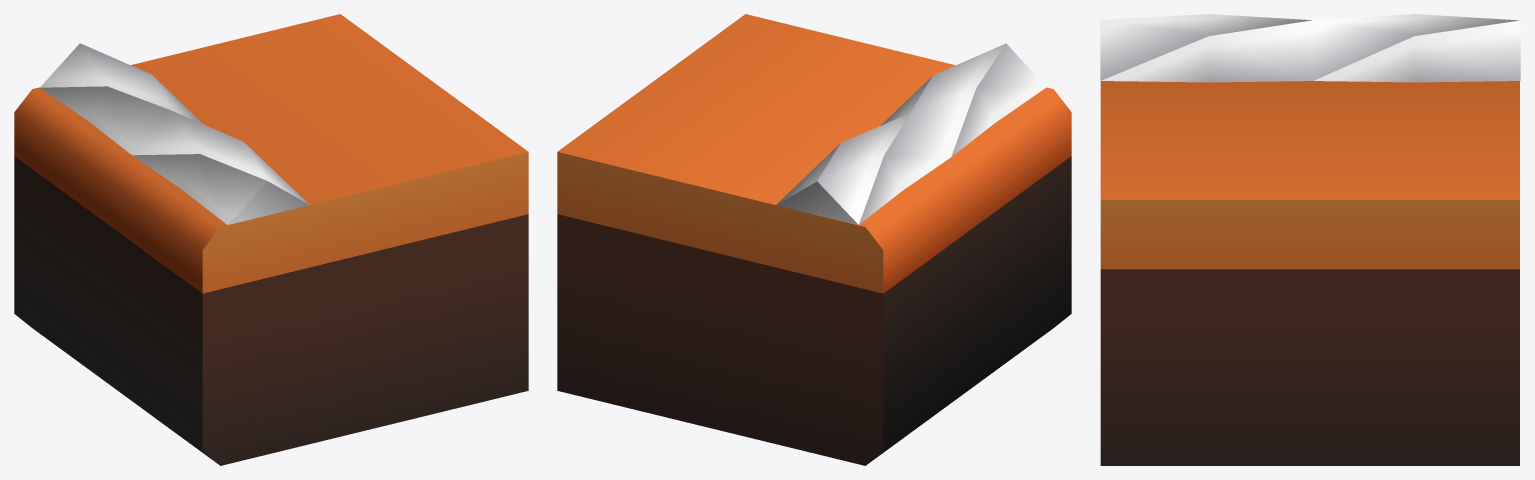
Rendered from m_SheetCake07_Slice02.fbx.
3 views of the same model, side by side, from view 1: azimuth 30°, elevation 25°; view 2: azimuth 150°, elevation 25°; view 3: azimuth 270°, elevation 25° (orthographic). The views are drawn at different scales.
Visible parts, largest first — view 1: m_SheetCake07_Slice02; view 2: m_SheetCake07_Slice02; view 3: m_SheetCake07_Slice02.
Part boxes in pixels (<box>): m_SheetCake07_Slice02: <box>14,14,528,465</box>; m_SheetCake07_Slice02: <box>557,14,1071,465</box>; m_SheetCake07_Slice02: <box>1100,14,1520,465</box>.
Size of the model in its own units: 10 by 8 by 10.02.
